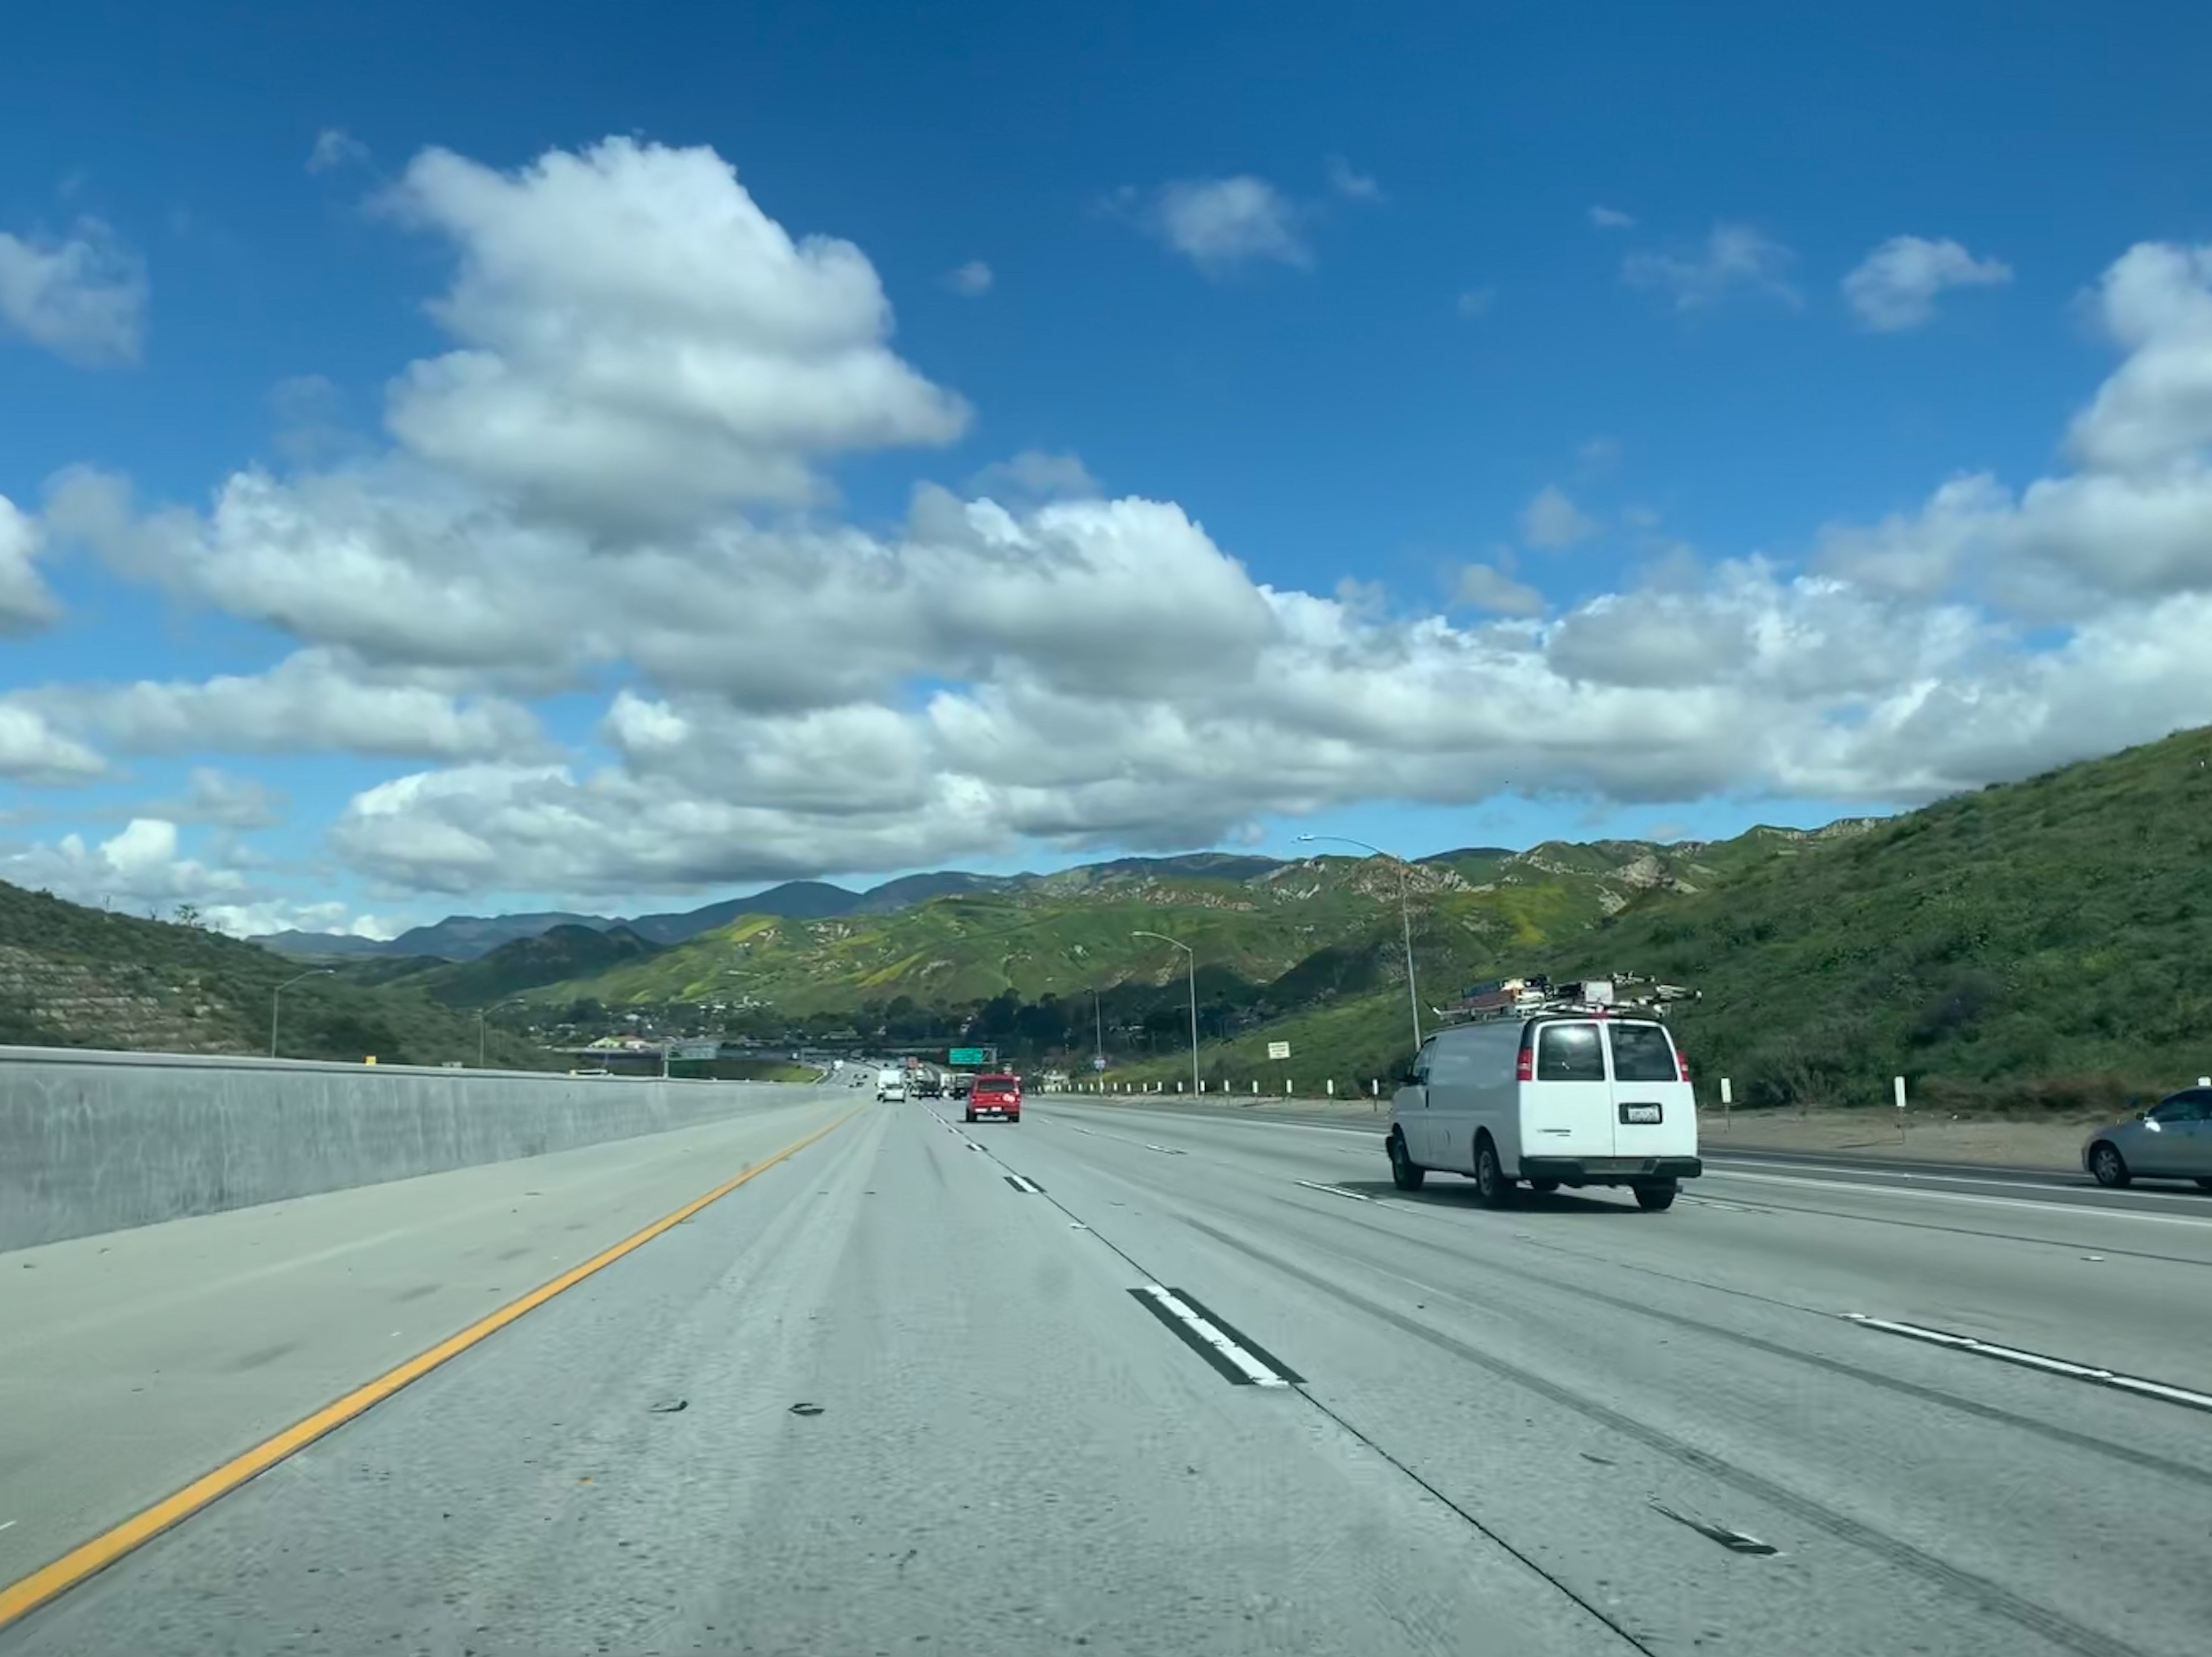Edge: (5, 1093, 851, 1251)
Obstacle: (1331, 1001, 1728, 1217), (2085, 1077, 2207, 1189), (966, 1072, 1022, 1123), (877, 1069, 905, 1104), (910, 1077, 940, 1100)
